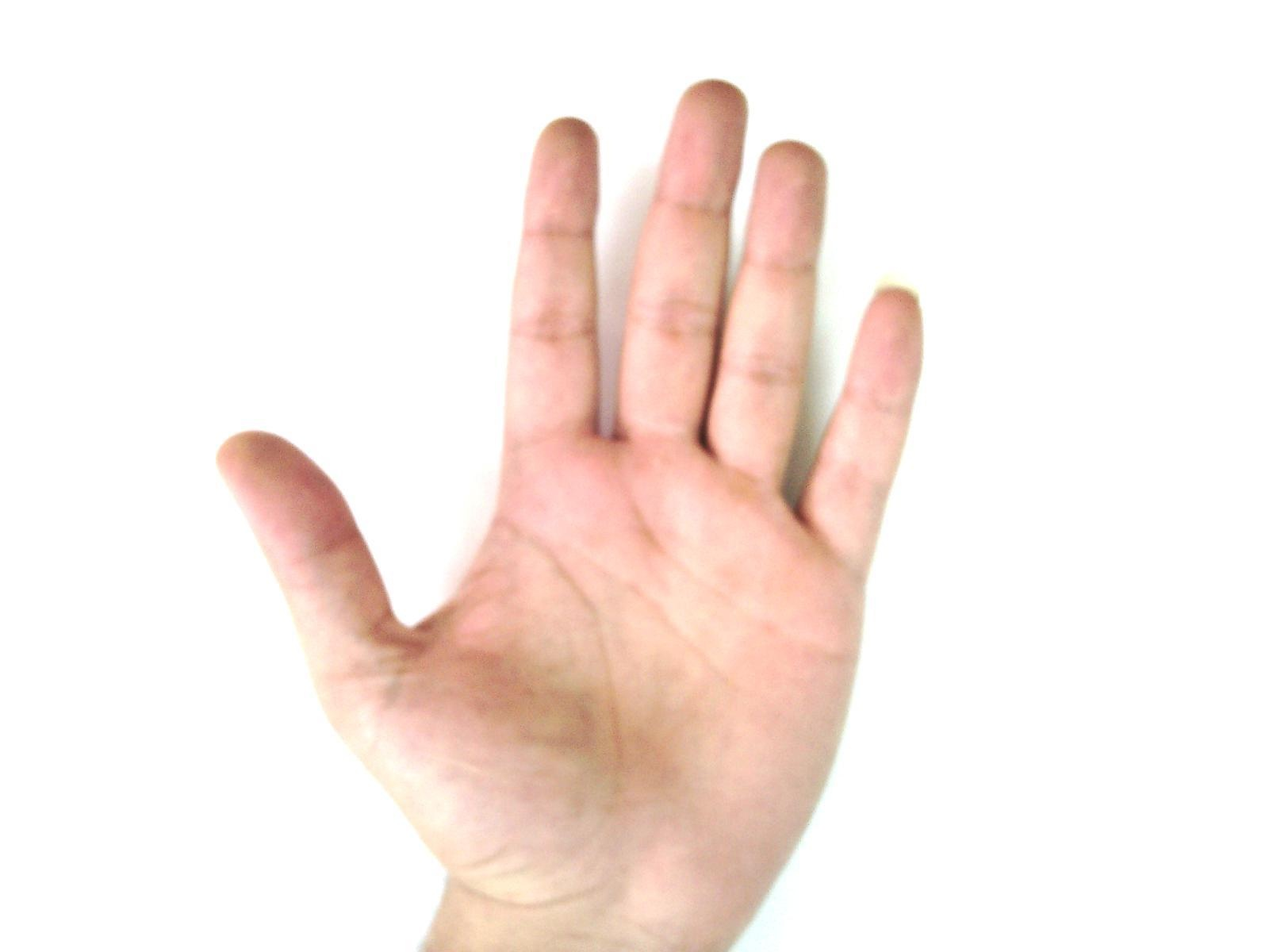open_palm: (214, 79, 928, 950)
